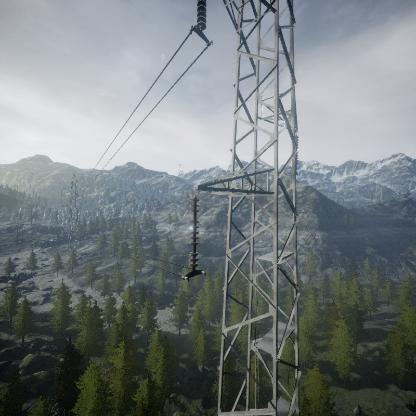insulator: (188, 194, 200, 269)
